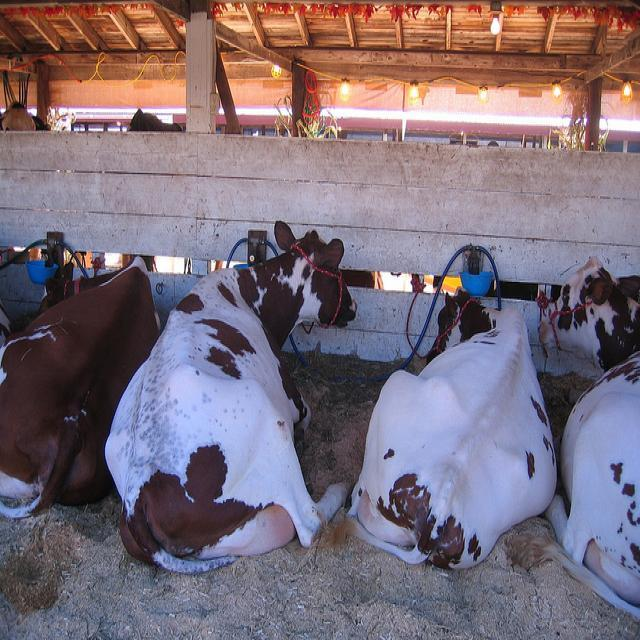cow: (103, 216, 357, 574), (309, 279, 557, 572), (0, 254, 159, 517), (536, 254, 639, 625)
